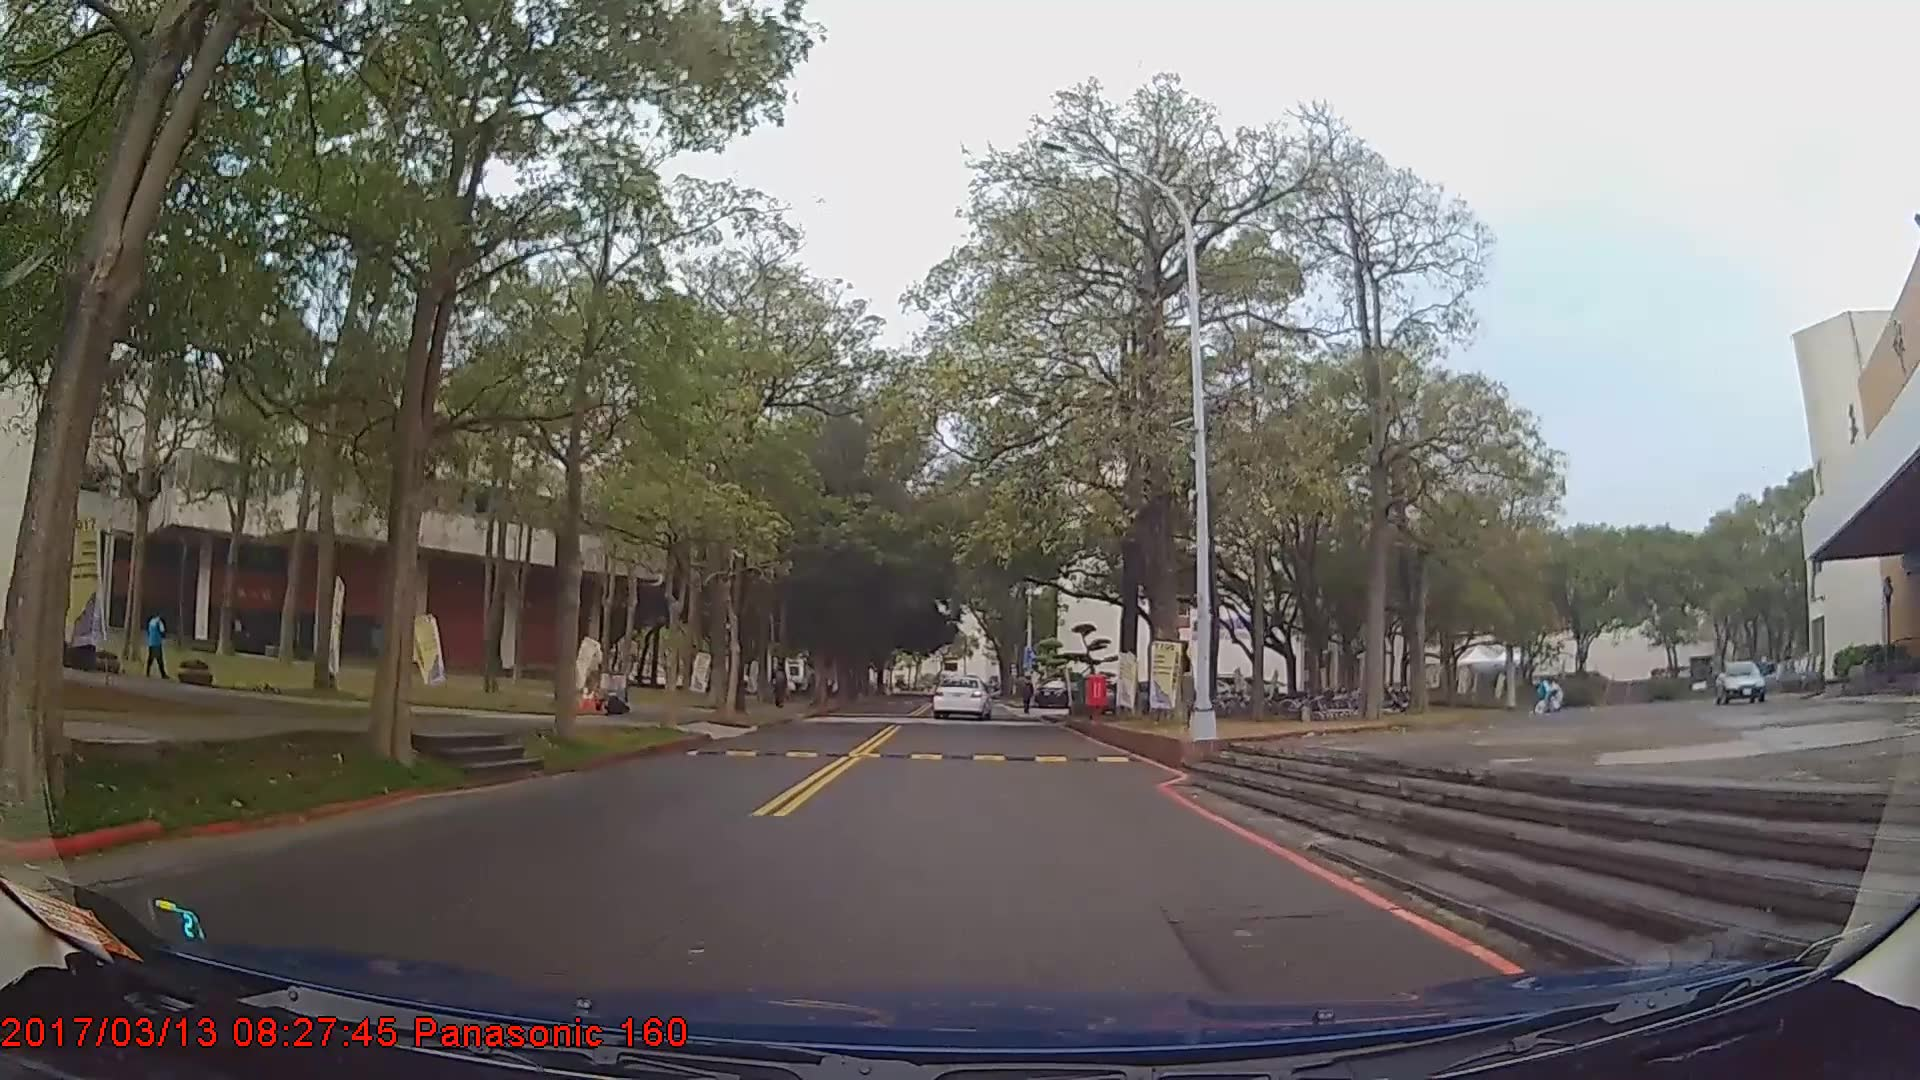pedestrian: (143, 604, 168, 680)
vehicle: (1710, 652, 1781, 702), (931, 675, 993, 720)
